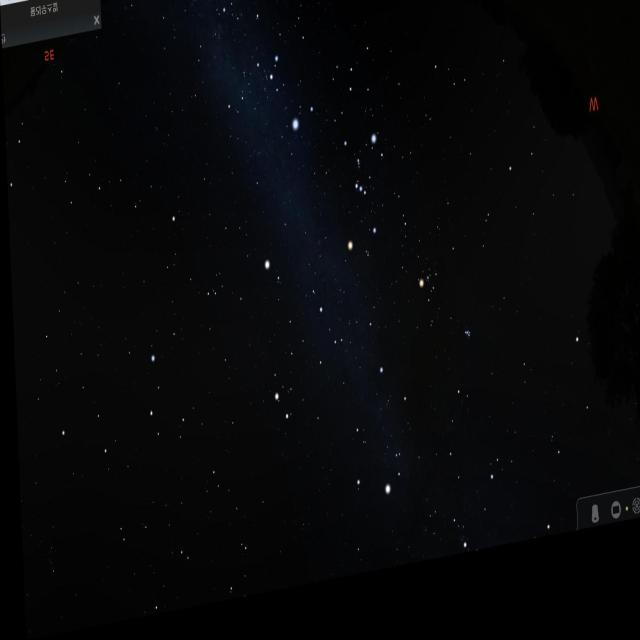canis_major: (265, 53, 318, 156)
canis_minor: (258, 261, 282, 301)
gemini: (263, 306, 347, 444)
leo: (44, 342, 196, 494)
orion: (332, 139, 386, 271)
pleiades: (458, 335, 471, 364)
taurus: (411, 260, 476, 391)
